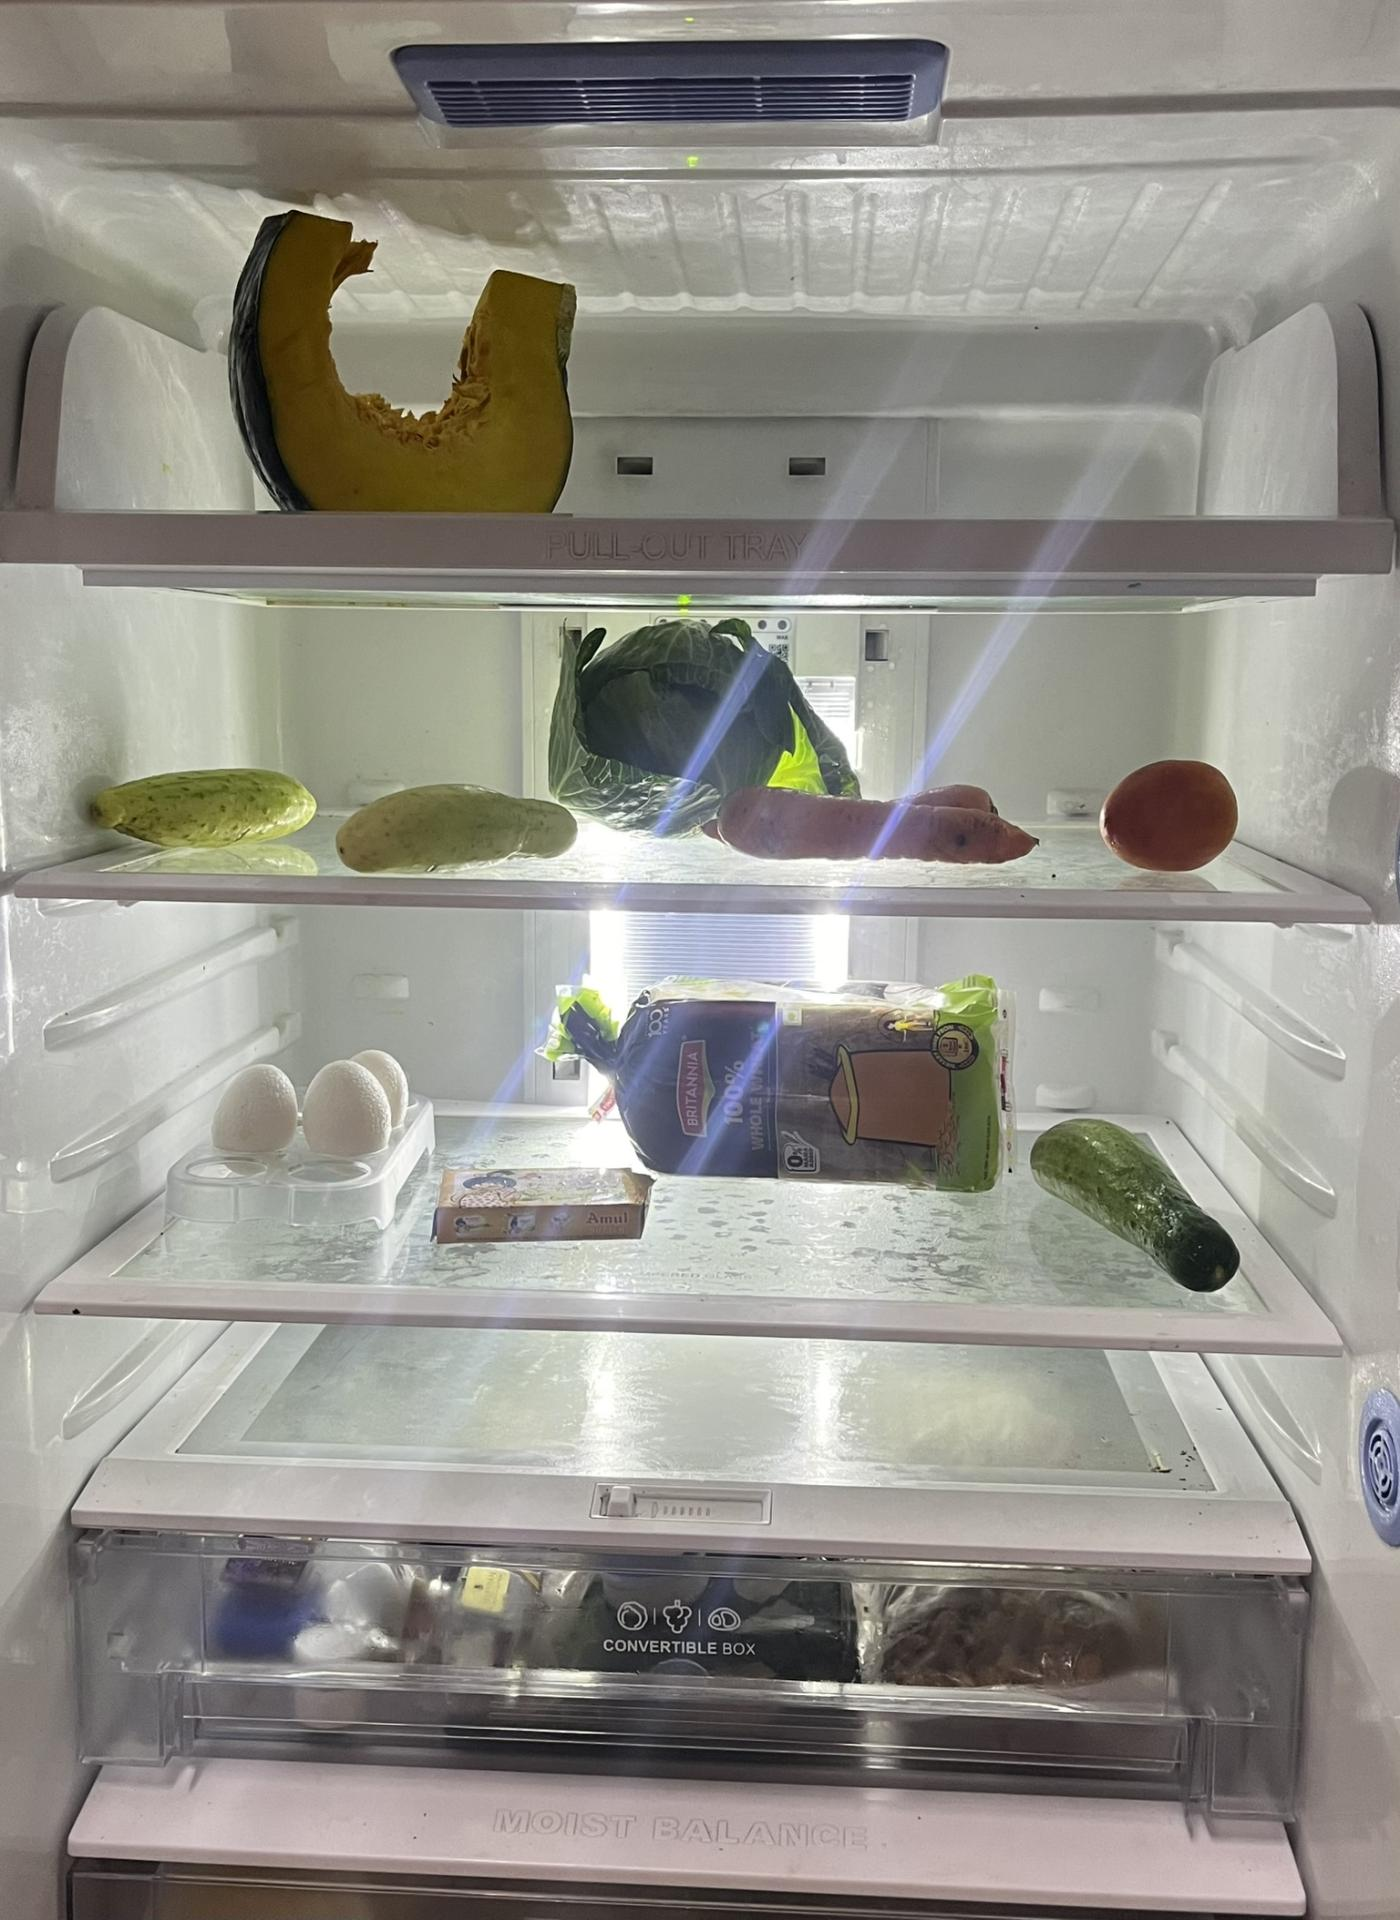bread: (571, 976, 1017, 1191)
butter: (435, 1166, 644, 1240)
cabbage: (555, 628, 829, 809)
carrots: (608, 778, 1051, 860)
cucumber: (1030, 1102, 1245, 1291), (332, 784, 583, 871), (85, 769, 322, 850)
egg: (210, 1043, 416, 1172)
pumpkin: (222, 198, 580, 523)
tomato: (1100, 756, 1249, 877)
